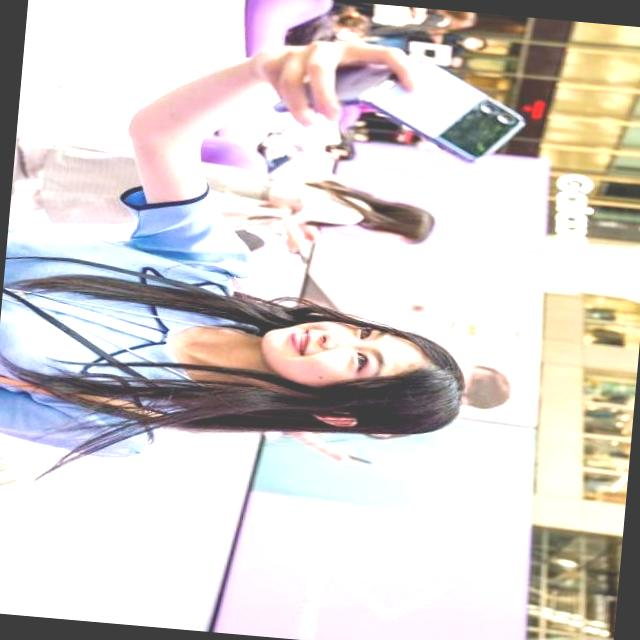lens_back: (496, 110, 516, 126), (478, 100, 496, 115)
phone: (326, 48, 530, 171)
